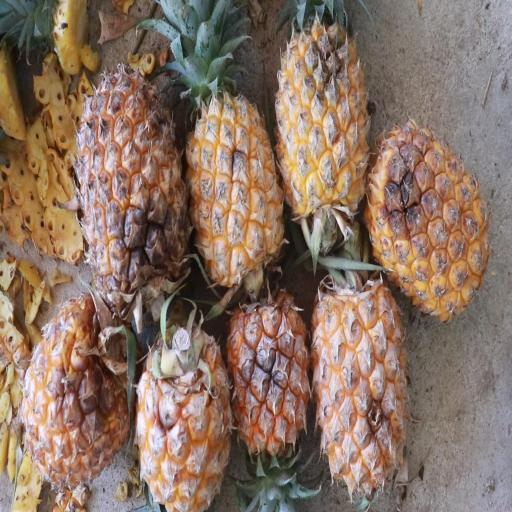Pineapple - v8 v1: (72, 52, 195, 329), (177, 23, 288, 295), (362, 118, 495, 332), (310, 255, 421, 496), (20, 290, 141, 497), (270, 3, 375, 232), (120, 301, 232, 511), (220, 274, 314, 506)
